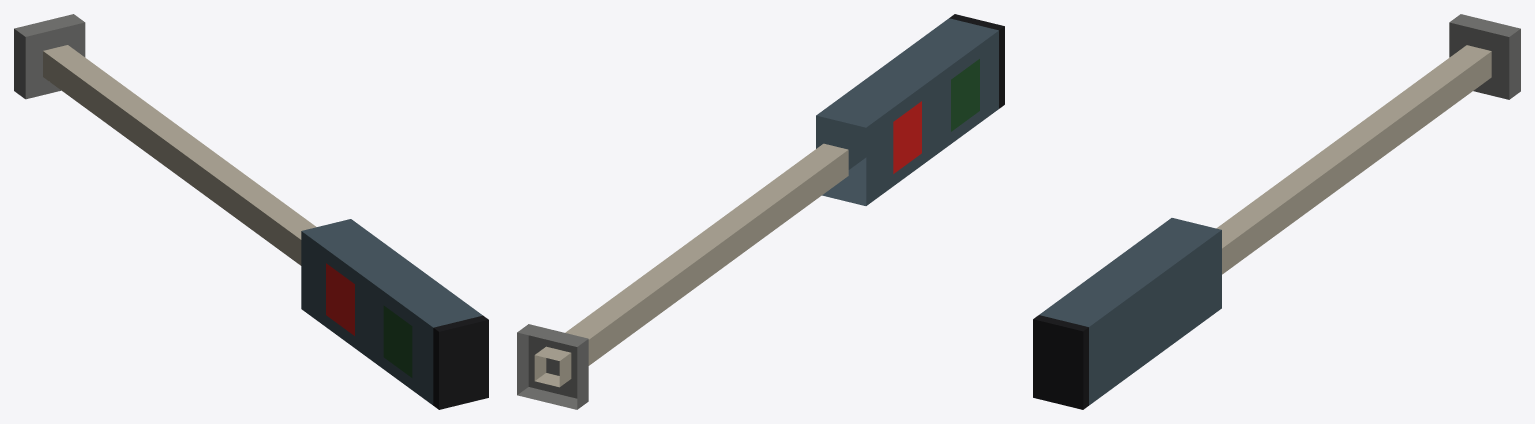
The model's file is red.glb.
3 views of the same model, side by side, from view 1: azimuth 30°, elevation 25°; view 2: azimuth 150°, elevation 25°; view 3: azimuth 330°, elevation 25° (orthographic).
Parts seen in each view (by area): view 1: signal_electric_path_red; view 2: signal_electric_path_red; view 3: signal_electric_path_red.
Boxes of the visible parts, x1=… form: signal_electric_path_red: x1=14, y1=14, x2=488, y2=409; signal_electric_path_red: x1=517, y1=14, x2=1004, y2=409; signal_electric_path_red: x1=1033, y1=14, x2=1520, y2=409.
Size of the model in its own units: 1.22 by 1.5 by 14.8.
